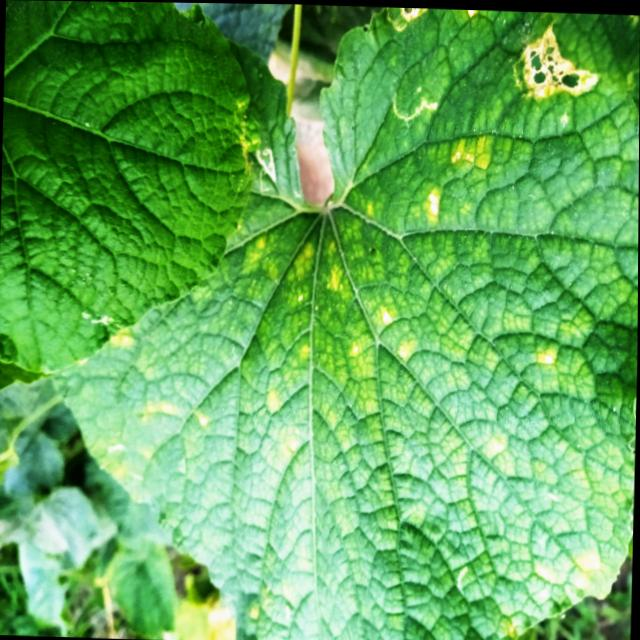Downy-Mildew: (56, 8, 639, 640)
